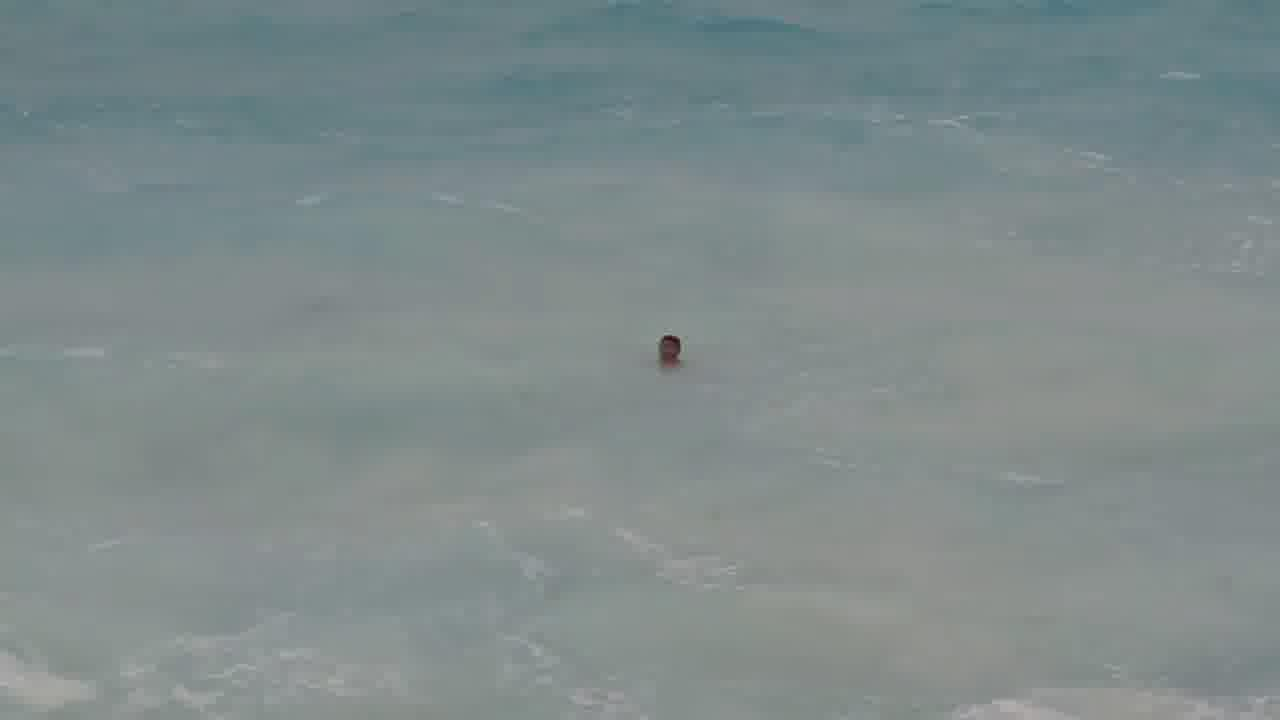human: (643, 323, 699, 375)
